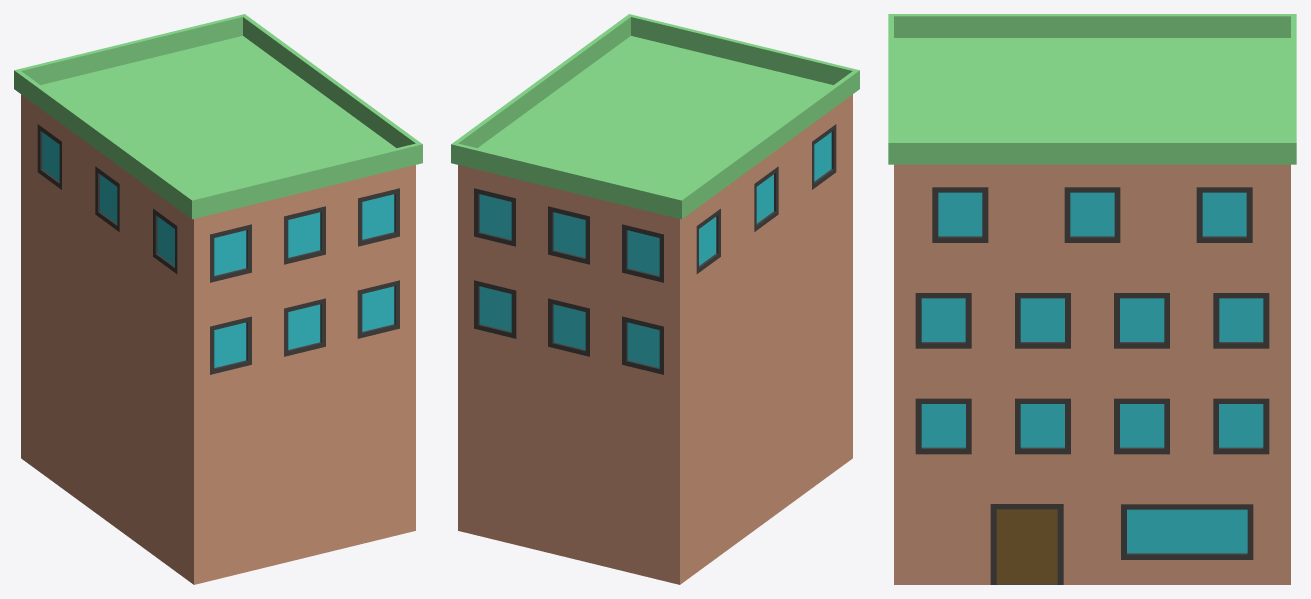
File: random res build 2.fbx
3 renders of one model, left to right at view 1: azimuth 30°, elevation 25°; view 2: azimuth 150°, elevation 25°; view 3: azimuth 270°, elevation 25°, orthographic. The views are drawn at different scales.
Visible parts, largest first — view 1: building_002; view 2: building_002; view 3: building_002.
Boxes of the visible parts, x1=… form: building_002: x1=14, y1=14, x2=422, y2=584; building_002: x1=451, y1=14, x2=859, y2=584; building_002: x1=888, y1=14, x2=1296, y2=584.
Size of the model in its own units: 2570 by 4123 by 3435.
